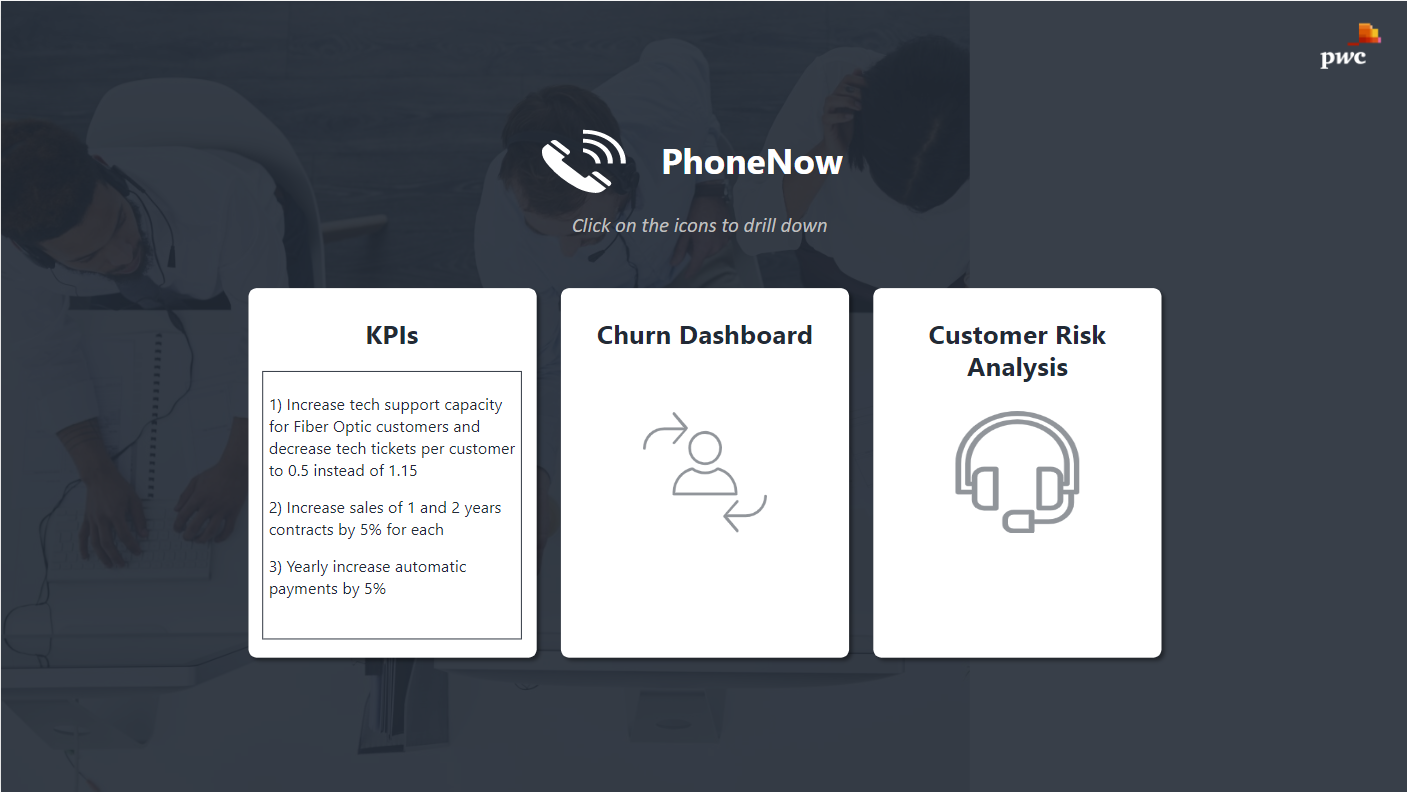

Layout of this report page (visuals, bound fields, positions):
{"tool":"powerbi","page":{"name":"Welcome","canvas":[1280,720],"ordinal":0},"visuals":[{"type":"textbox","box":[237.6,336.5,236.4,243.6],"z":0},{"type":"actionButton","box":[571.7,360.6,142.3,139.9],"z":1000},{"type":"actionButton","box":[850.3,360.6,142.3,139.9],"z":2000}]}

Visuals, with their boxes in screenshot pixels (x1, y1, x2, y2), scaled from the page's 1280x720 canvas onto the 1407x792 screenshot:
textbox: 261,370,521,638
actionButton: 628,397,785,551
actionButton: 935,397,1091,551
